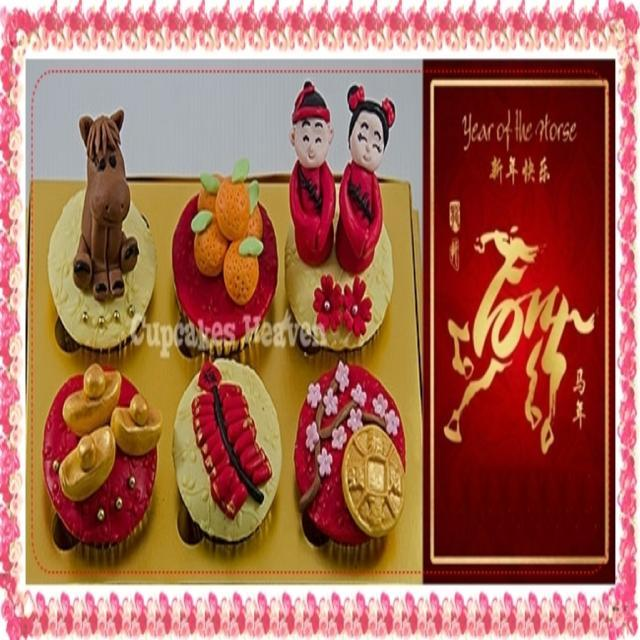Muffin: (41, 82, 405, 549)
